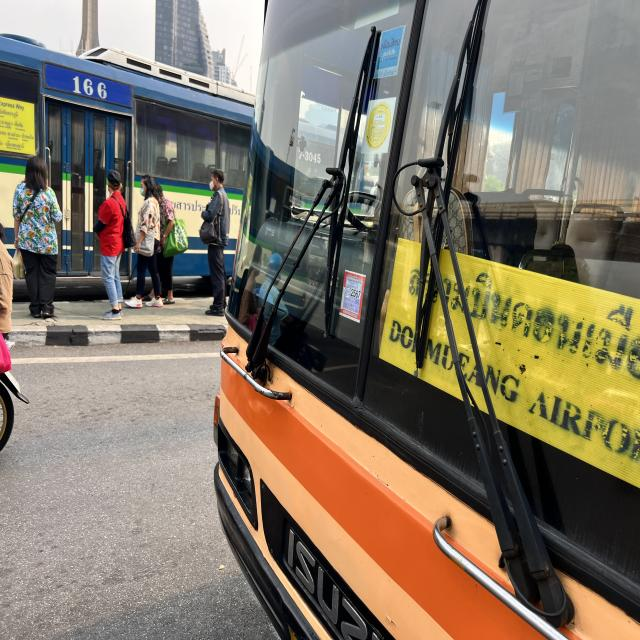BMTA-bus: (212, 0, 640, 640), (0, 23, 262, 304)
Bus-Line-Number: (69, 67, 111, 107)
Destination-Sign-Normal-Expressway: (379, 236, 640, 489)
